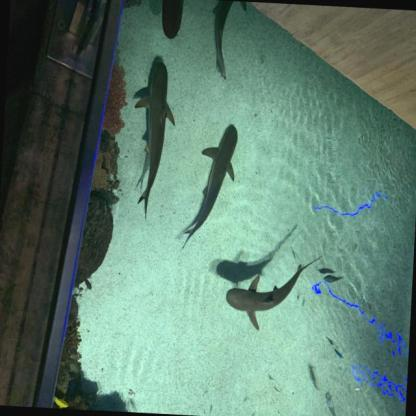fish: (322, 390, 340, 415), (316, 262, 336, 278), (53, 394, 71, 409), (82, 275, 94, 294)
shark: (221, 250, 322, 334), (128, 61, 179, 220), (183, 122, 238, 252), (206, 0, 248, 81), (157, 0, 189, 40)
